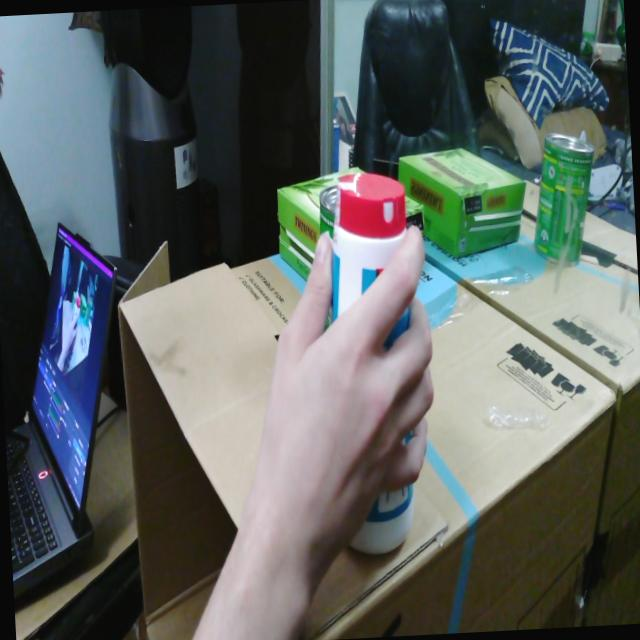nestle_milo_tin: (319, 185, 337, 249)
twinings_greentea_box: (277, 167, 365, 282), (405, 196, 425, 239)
woolworths_salt_bottle: (330, 173, 406, 325), (350, 484, 414, 554), (383, 308, 410, 351)
